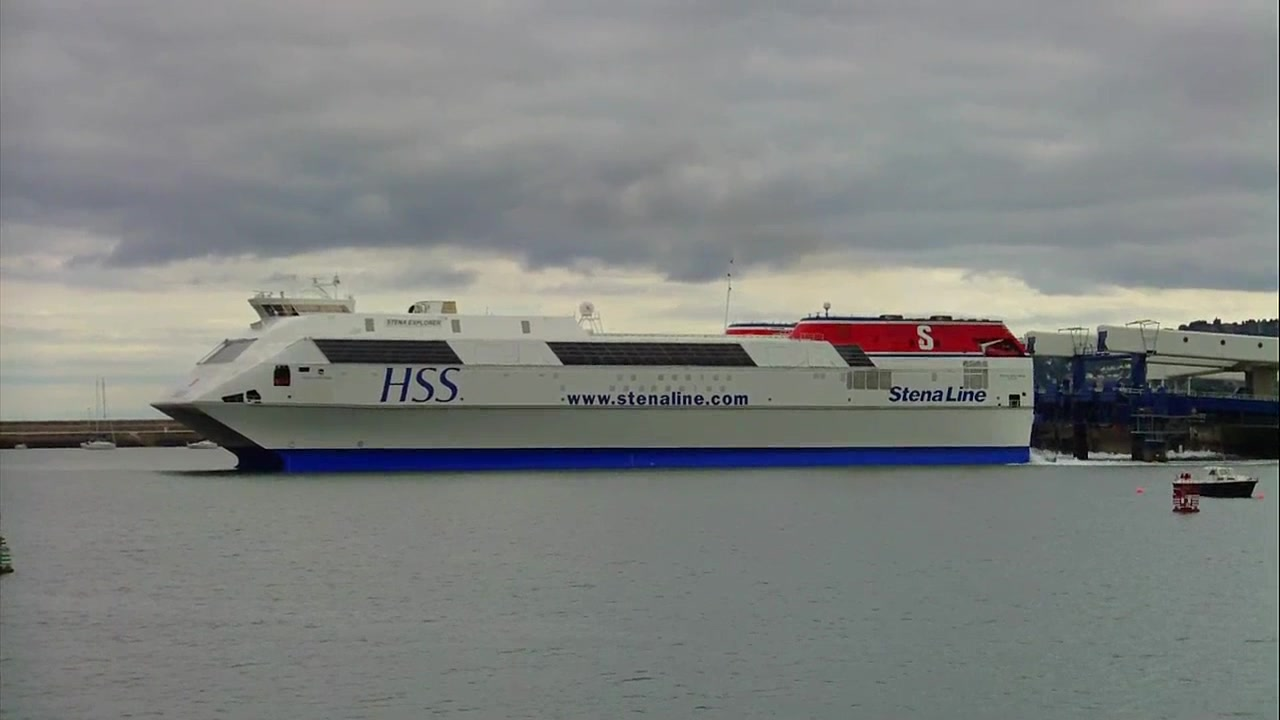boat: (150, 281, 1035, 471)
